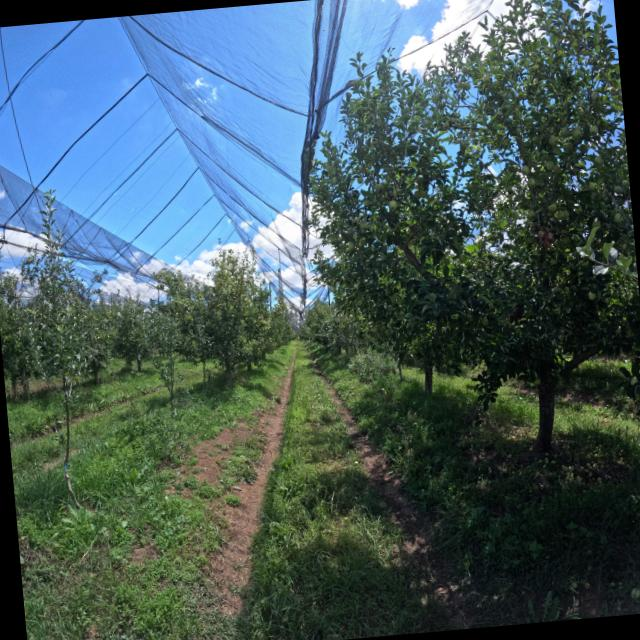-FireBlight-: (534, 223, 555, 252)
